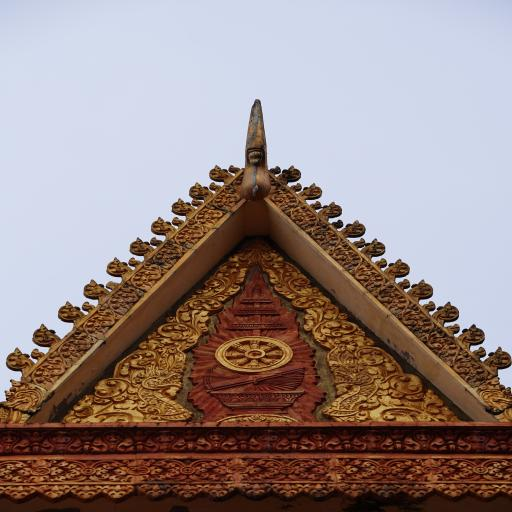la: (0, 460, 90, 483), (187, 461, 290, 481), (90, 460, 188, 481), (378, 459, 480, 479), (288, 461, 386, 478), (382, 369, 430, 401), (250, 426, 310, 451), (145, 322, 195, 350), (194, 428, 252, 452), (92, 429, 148, 453), (450, 353, 492, 385), (288, 298, 339, 324), (458, 428, 510, 453), (302, 427, 353, 451), (175, 297, 226, 321), (352, 427, 400, 452), (400, 428, 452, 451), (313, 319, 359, 345), (46, 430, 95, 454), (148, 430, 197, 454), (114, 347, 155, 375), (274, 275, 319, 300), (0, 430, 46, 454), (90, 377, 132, 401), (194, 276, 242, 296), (424, 332, 458, 358), (77, 314, 113, 338), (475, 458, 512, 481), (398, 308, 432, 333), (433, 482, 471, 504), (378, 289, 409, 315), (351, 268, 383, 293), (269, 480, 307, 501), (334, 480, 370, 502), (28, 363, 64, 385), (108, 288, 138, 314), (130, 270, 165, 292), (53, 339, 86, 362), (398, 481, 434, 502), (308, 225, 338, 250), (370, 479, 403, 501), (2, 483, 38, 503), (290, 209, 321, 231), (333, 249, 362, 272), (151, 248, 182, 269), (190, 209, 225, 226), (233, 482, 268, 498), (211, 192, 240, 211), (302, 482, 332, 500), (470, 482, 503, 498), (273, 193, 300, 212), (66, 485, 100, 500), (200, 483, 234, 498), (177, 228, 205, 246), (137, 483, 169, 498), (172, 484, 202, 500), (41, 484, 68, 500), (104, 486, 134, 500)
lua: (236, 96, 272, 199), (27, 321, 64, 349), (6, 347, 36, 377), (456, 318, 487, 347), (479, 343, 510, 372), (407, 274, 435, 304), (312, 198, 343, 224), (434, 295, 460, 325), (81, 278, 112, 302), (382, 256, 412, 280), (336, 216, 367, 239), (54, 300, 82, 324), (149, 215, 177, 239), (107, 257, 133, 279), (128, 237, 154, 258), (363, 238, 385, 262), (299, 181, 325, 201), (170, 198, 196, 217), (190, 181, 216, 200), (280, 165, 302, 187), (208, 164, 228, 186), (345, 233, 369, 249), (30, 341, 48, 362), (127, 256, 146, 272), (77, 299, 98, 313), (328, 214, 344, 231), (472, 346, 489, 362), (445, 320, 461, 336), (206, 178, 222, 192), (396, 276, 410, 292), (224, 161, 239, 175), (374, 255, 388, 269), (267, 163, 282, 176), (170, 216, 184, 228), (421, 302, 437, 312), (311, 198, 322, 212), (292, 180, 304, 192), (150, 234, 160, 248), (190, 198, 202, 207)
ran: (314, 345, 382, 421), (136, 343, 188, 424)
